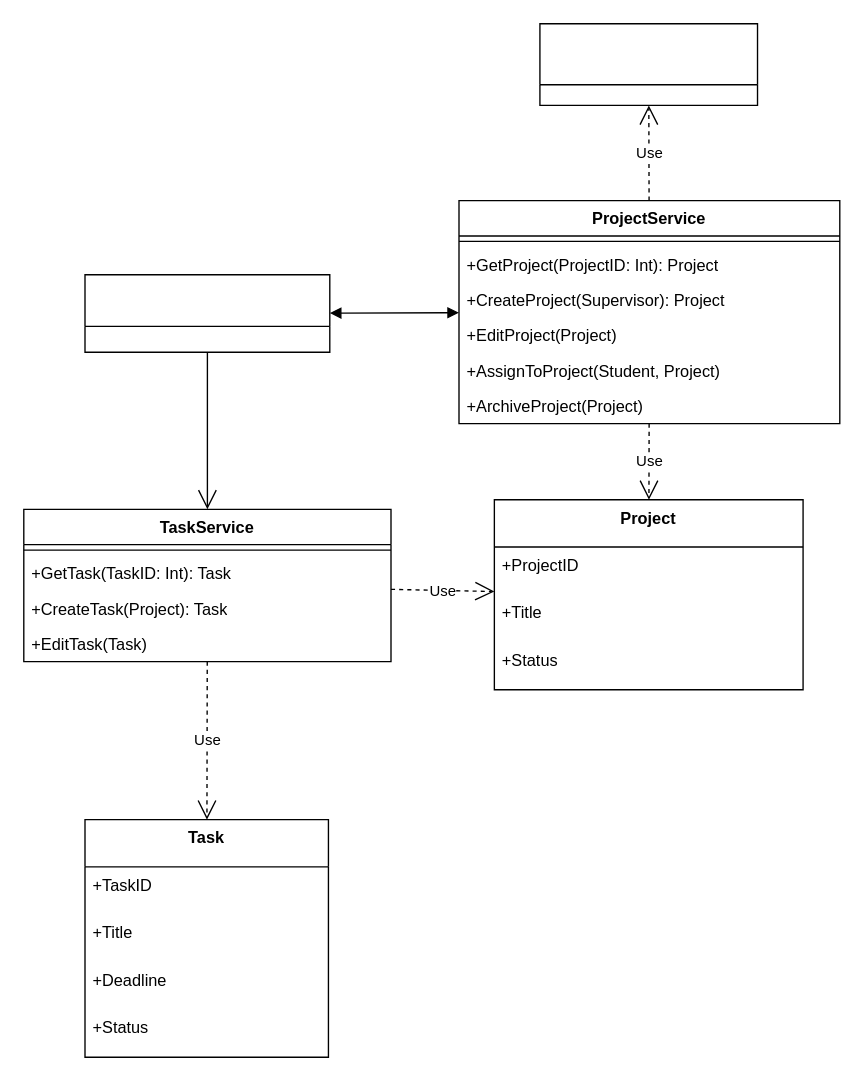
Image size: 864x1085. Some labels were removed from this diagram. The shapes that lost their labels are listed below. From the top down, each one's centre as x and y in pixels, then its label:
At (648,63): "Student".
At (207,312): "Supervisor".
